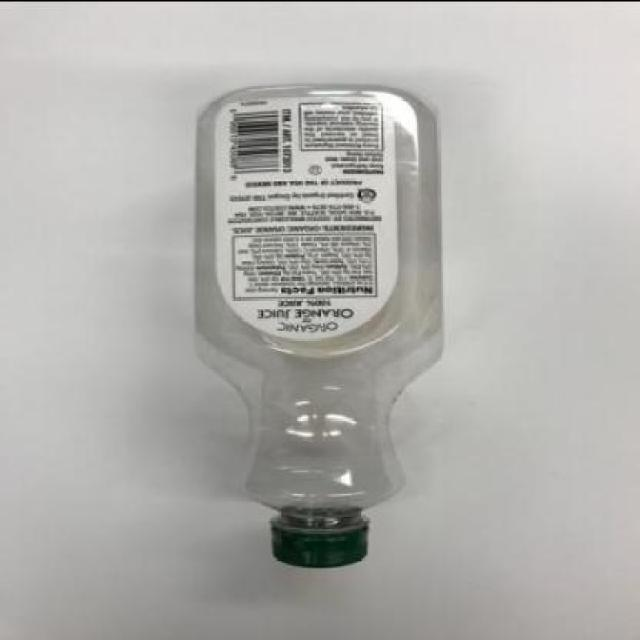PLASTIC: (194, 82, 443, 566), (265, 508, 373, 566)
